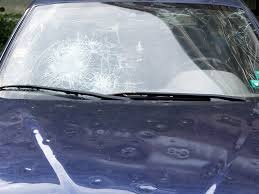Broken-glass: (27, 34, 133, 92)
Dent: (104, 131, 190, 160)
